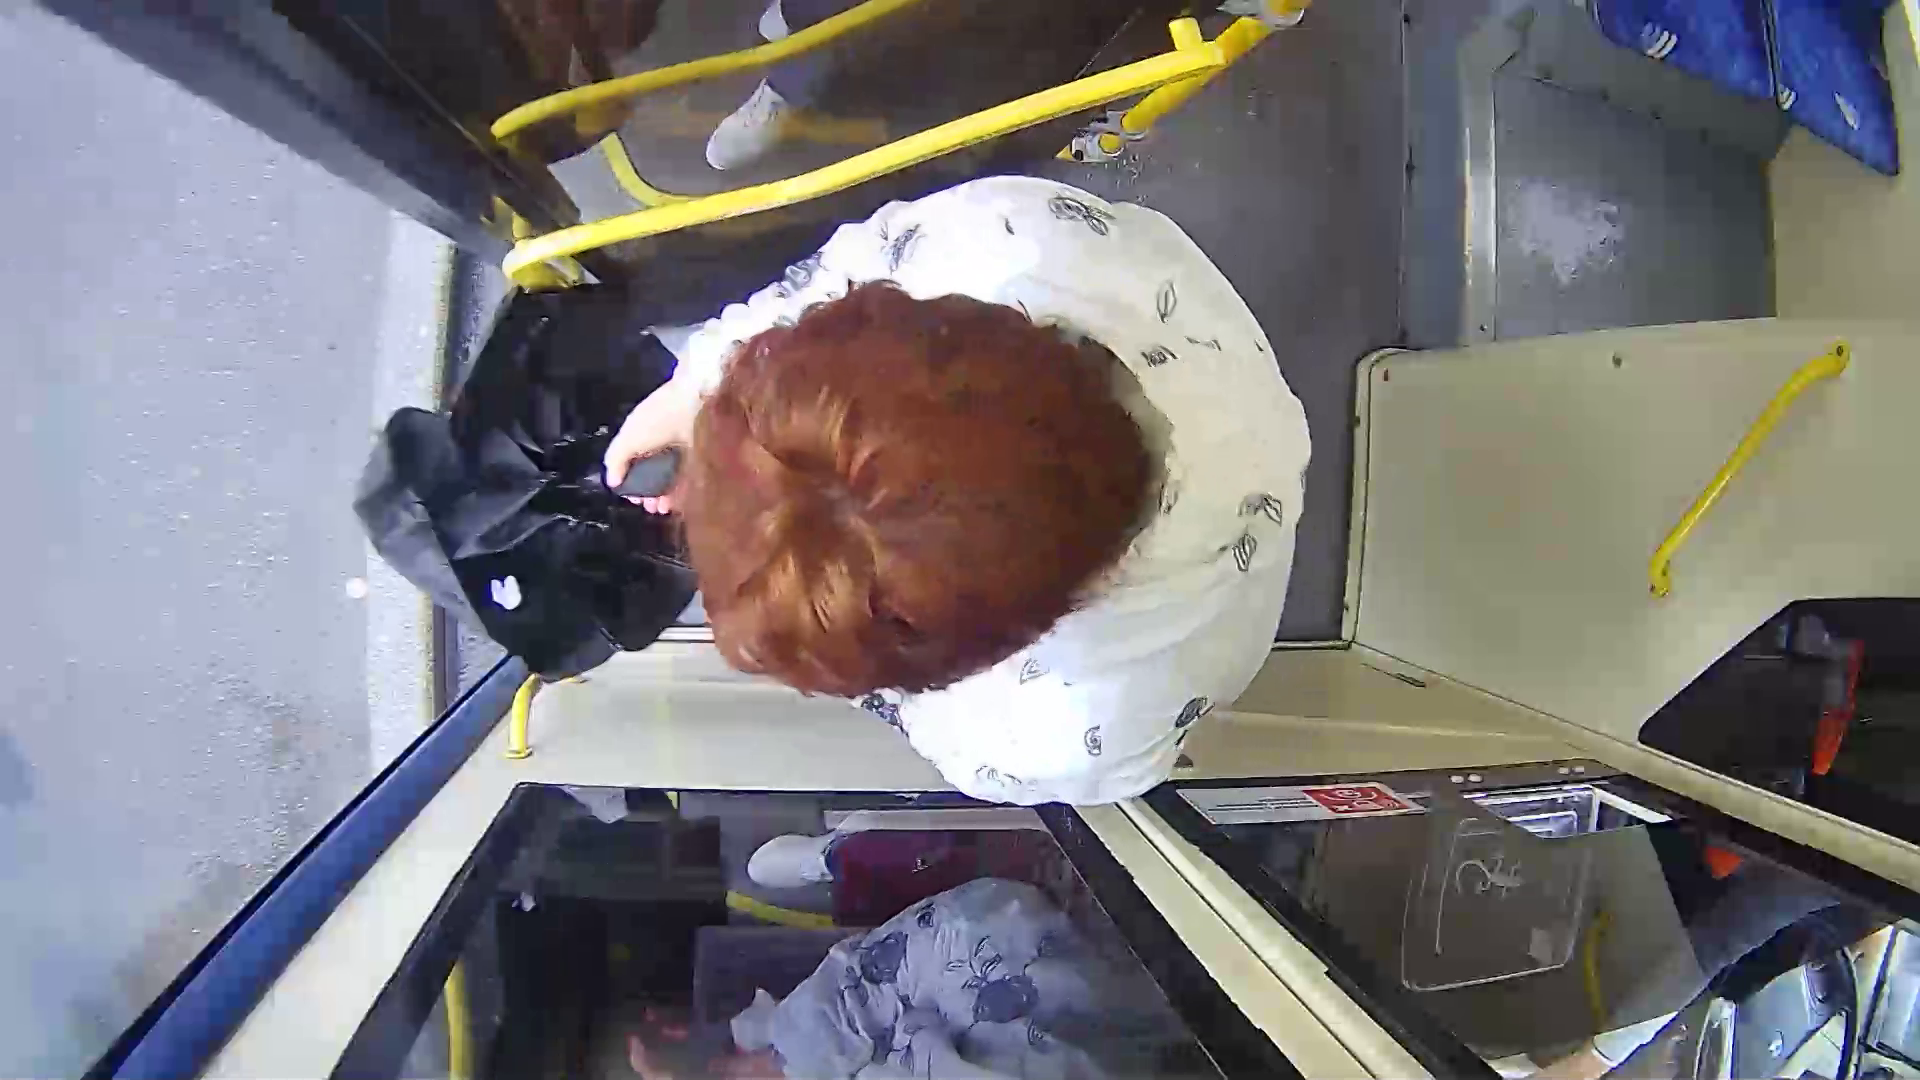person: (463, 178, 1347, 779)
